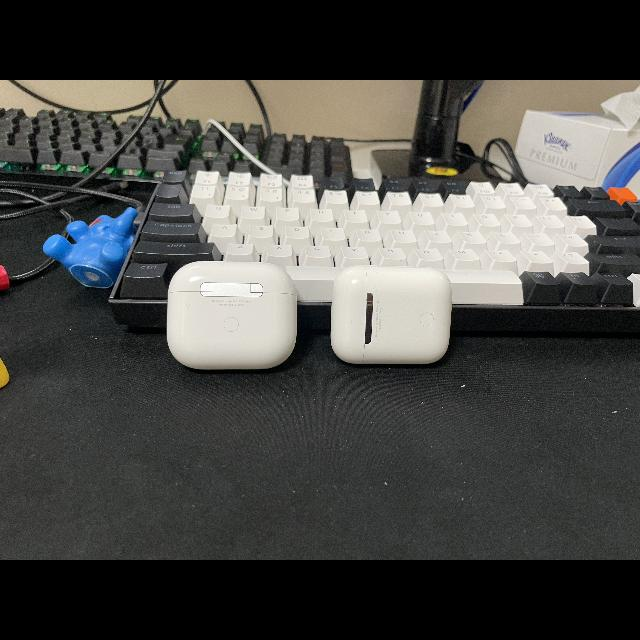airpod2: (329, 260, 455, 370)
airpod3: (162, 253, 302, 373)
